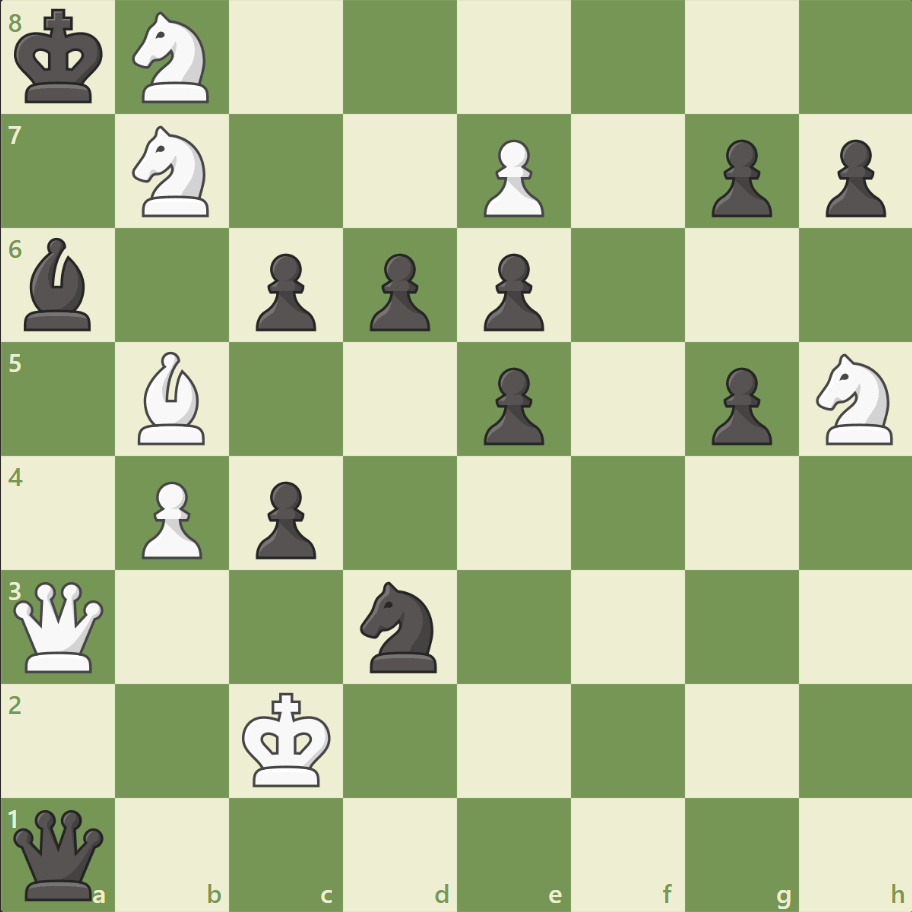B: (131, 347, 215, 449)
K: (238, 685, 338, 793)
N: (124, 7, 222, 110), (124, 121, 222, 223), (806, 348, 903, 450)
P: (474, 132, 549, 223), (133, 473, 208, 564)
Q: (10, 576, 109, 676)
b: (17, 233, 101, 336)
k: (11, 4, 111, 112)
n: (351, 575, 449, 677)
p: (701, 132, 776, 223), (247, 246, 322, 337), (474, 246, 549, 337), (474, 359, 549, 450), (701, 359, 776, 450), (247, 473, 322, 564), (815, 132, 889, 223), (361, 246, 435, 337)
q: (10, 804, 109, 903)
